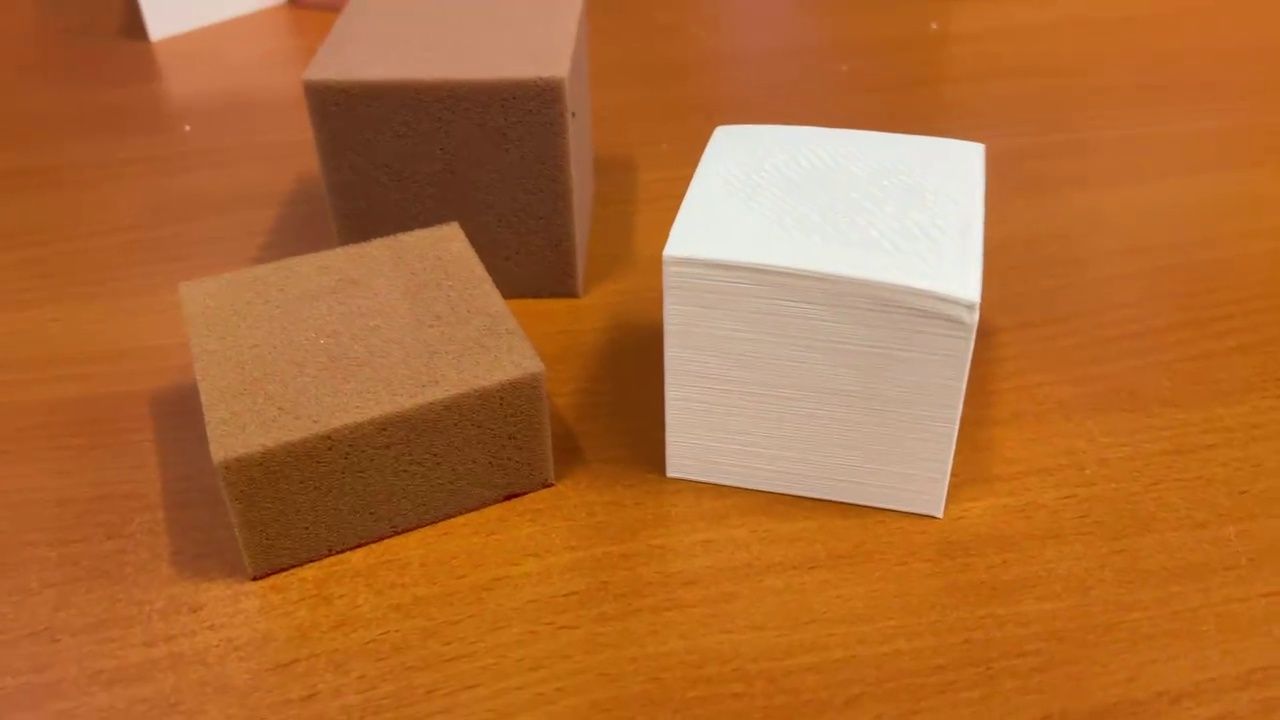Cube: (656, 120, 998, 530), (294, 1, 599, 302)
Cube_short: (172, 218, 560, 588)
